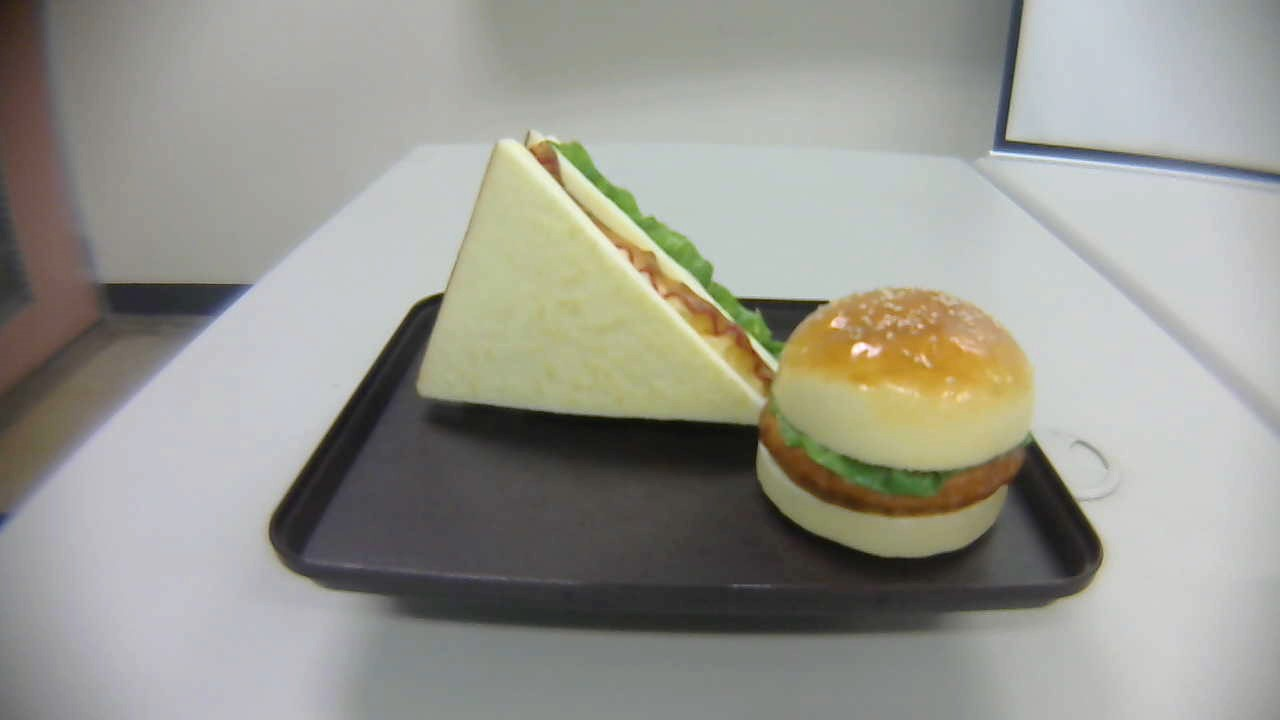hamburger: (756, 285, 1036, 560)
sandwich: (417, 129, 784, 425)
